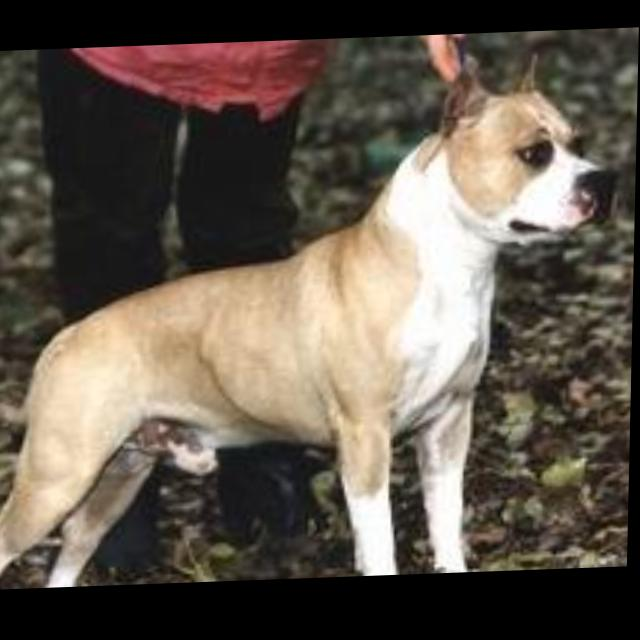amstaff: (1, 39, 626, 590)
